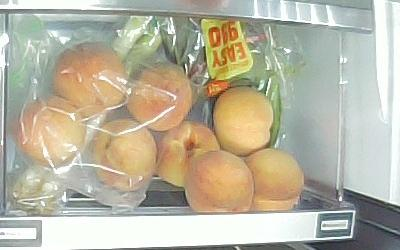peach: (156, 122, 221, 186), (213, 86, 274, 154), (185, 152, 251, 210), (242, 148, 301, 209)
peach_vinyl: (53, 41, 126, 116), (13, 96, 85, 167), (92, 118, 158, 193), (127, 64, 192, 129)
